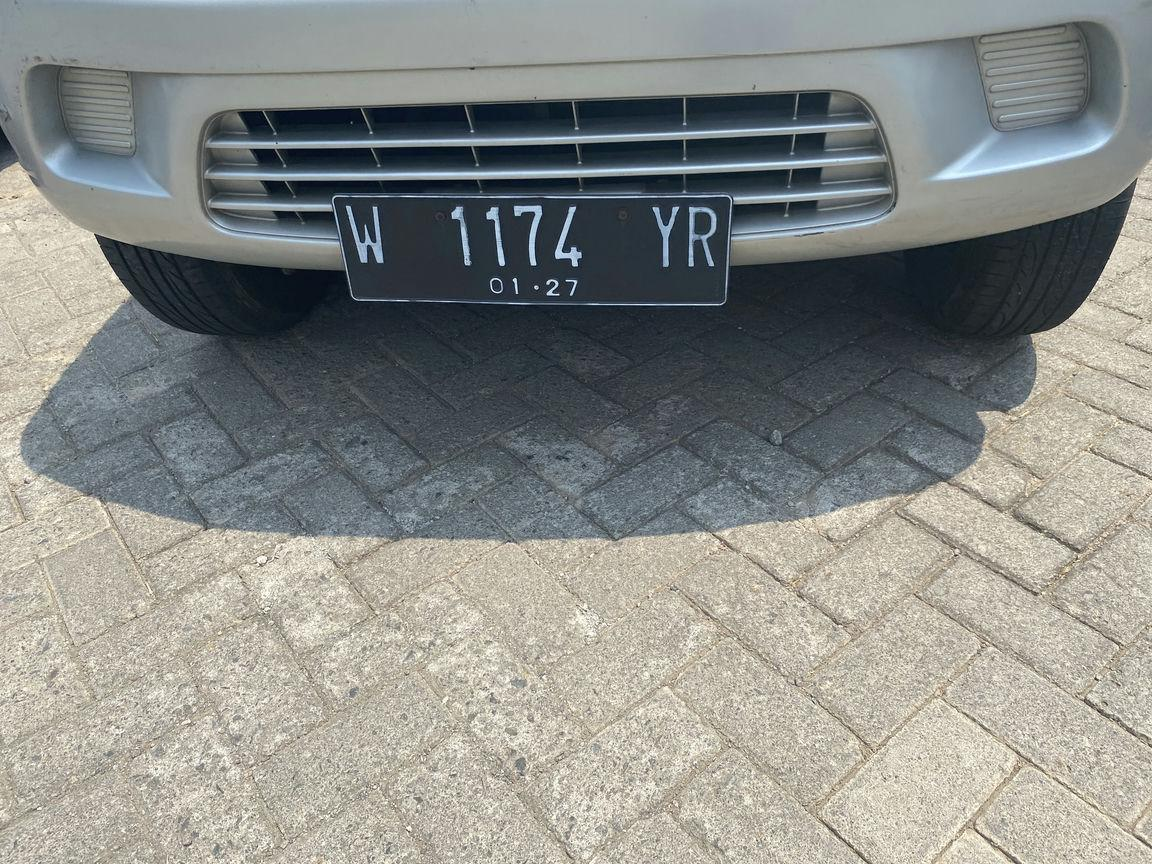plat: (333, 194, 734, 306)
